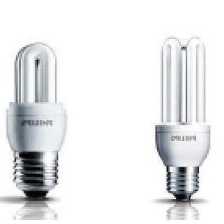light_bulb: (1, 38, 70, 203), (153, 34, 213, 207)
